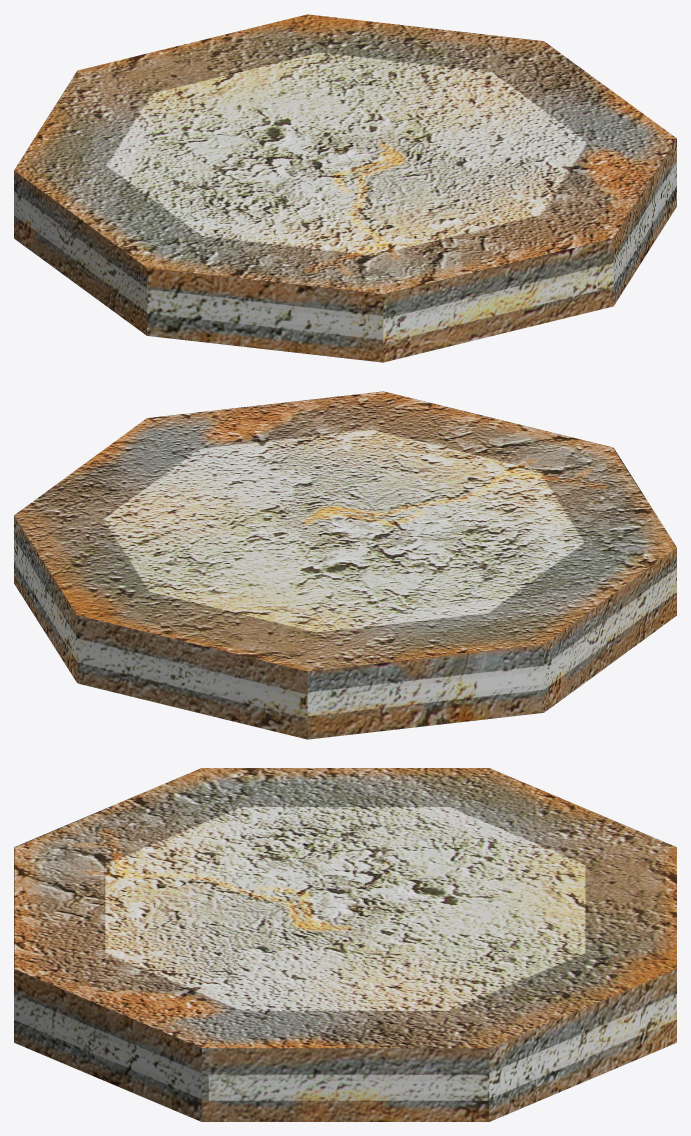
Rendered from MainTileModel01.FBX.
3 renders of one model, top to bottom at view 1: azimuth 30°, elevation 25°; view 2: azimuth 150°, elevation 25°; view 3: azimuth 270°, elevation 25°, orthographic. The views are drawn at different scales.
Visible parts, largest first — view 1: Layer:Layer 002; view 2: Layer:Layer 002; view 3: Layer:Layer 002.
Part boxes in pixels (left/top/right/bottom): Layer:Layer 002: left=14, top=14, right=676, bottom=362; Layer:Layer 002: left=14, top=391, right=676, bottom=739; Layer:Layer 002: left=14, top=768, right=676, bottom=1121.
Size of the model in its own units: 0.7379 by 0.7378 by 0.0905.
1 material, 1 textured.
